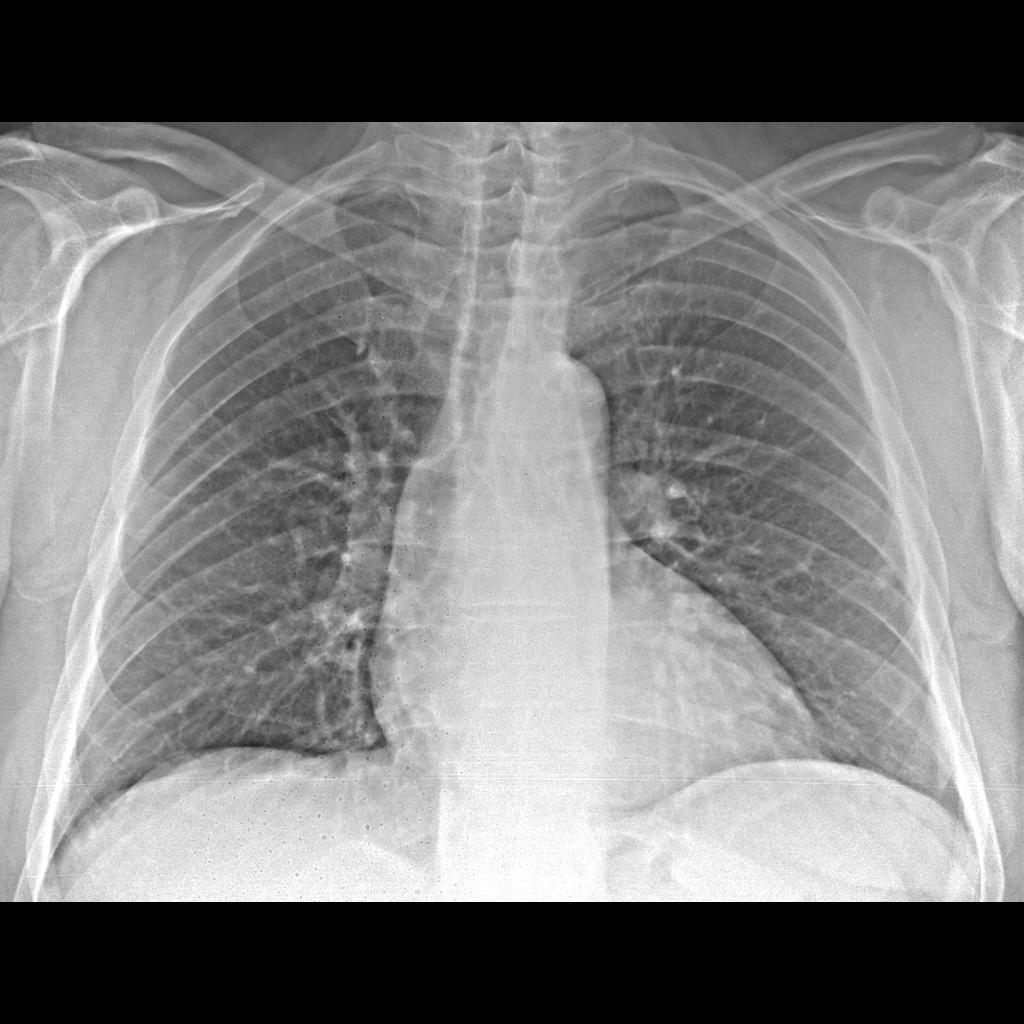Nodule: (868, 551, 907, 600)
